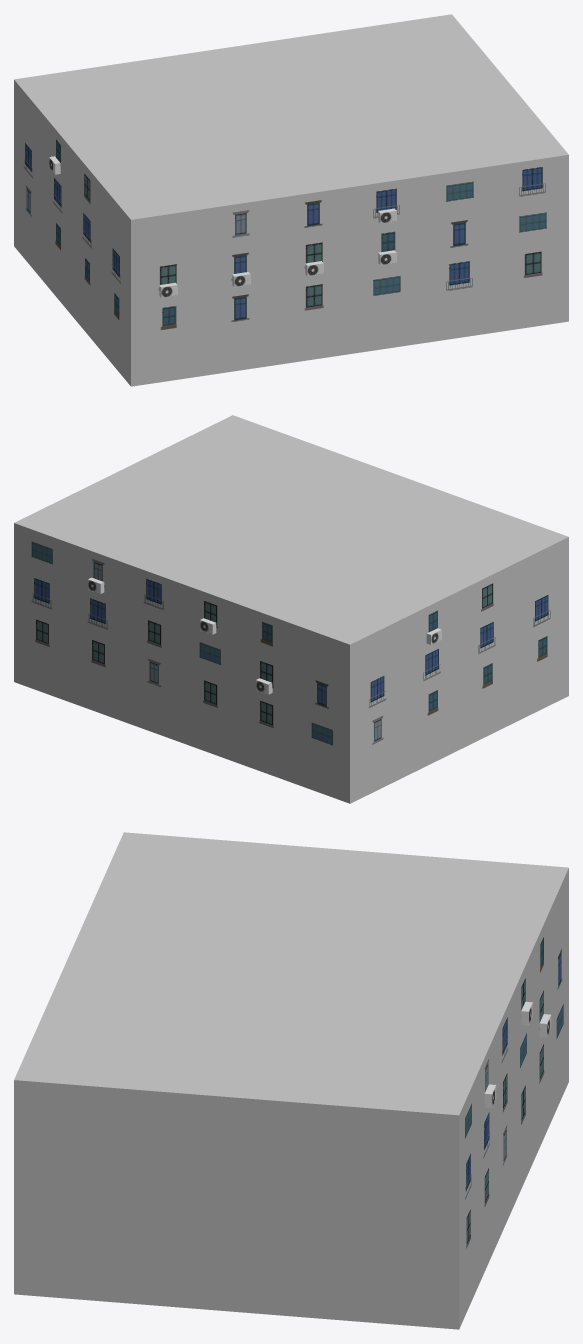
Rendered from 111StationFix12.fbx.
3 renders of one model, top to bottom at view 1: azimuth 30°, elevation 25°; view 2: azimuth 150°, elevation 25°; view 3: azimuth 270°, elevation 25°, orthographic. The views are drawn at different scales.
Visible parts, largest first — view 1: Cube.593; view 2: Cube.593; view 3: Cube.593.
Part boxes in pixels (<box>): Cube.593: <box>14,14,568,386</box>; Cube.593: <box>14,415,568,803</box>; Cube.593: <box>14,832,568,1329</box>.
Bounding box in the file's own units: 22.22 × 7.85 × 18.41.
